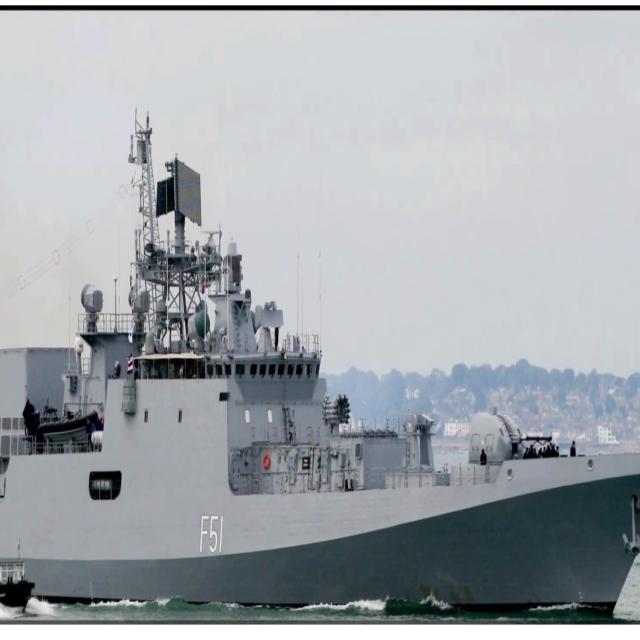OCR: (196, 509, 230, 562)
